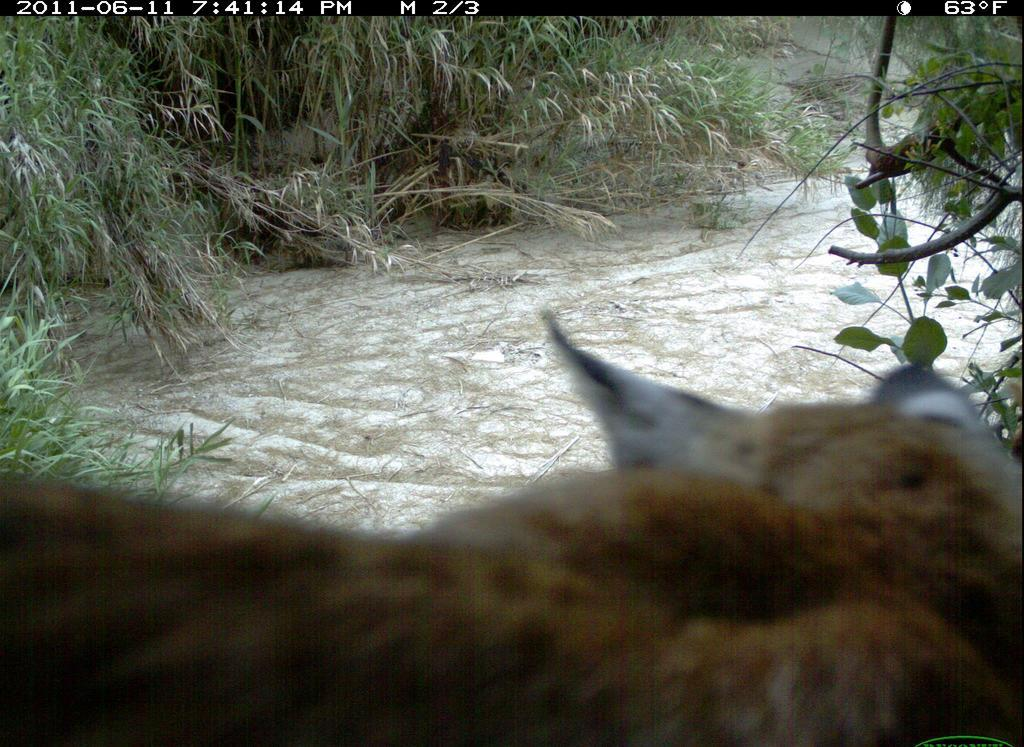bobcat: (2, 303, 1024, 745)
